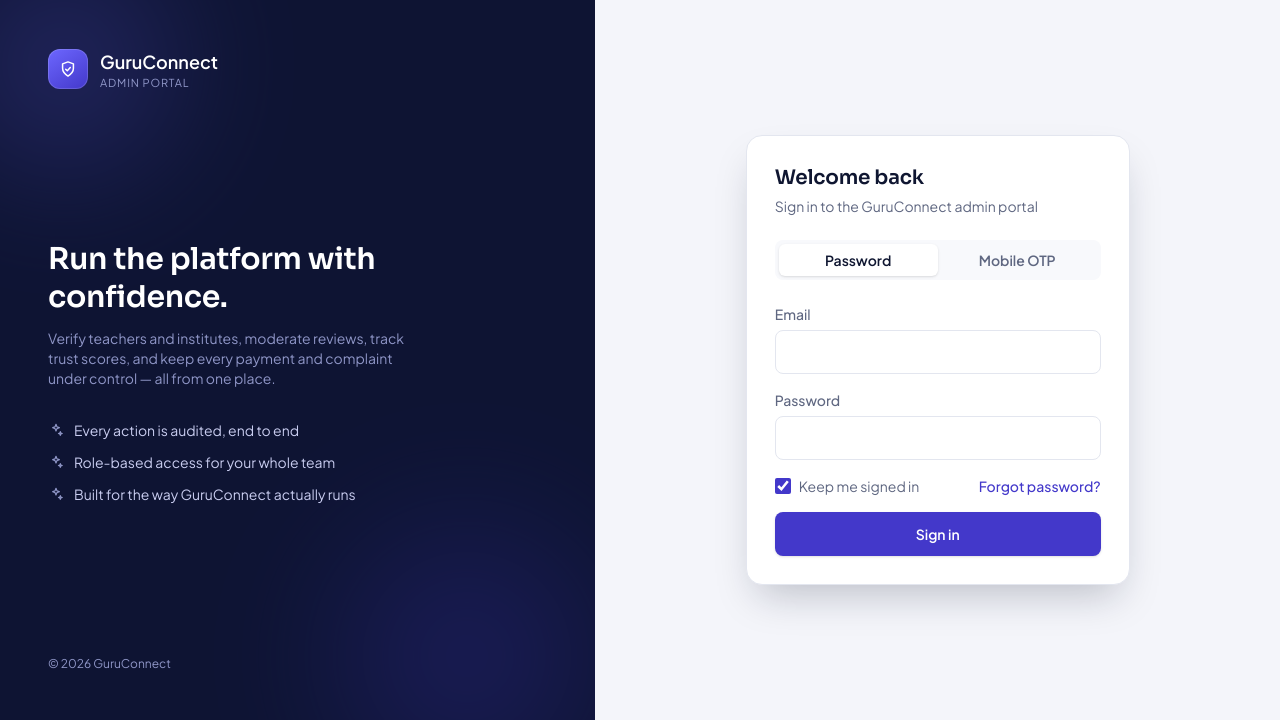
Test: LoginPage › shows the throttle message on RATE_LIMITED
The image size is (1280, 720).
Type "a@b.co" into the field labelled "Email" at (938, 352), box [775, 330, 1101, 374]
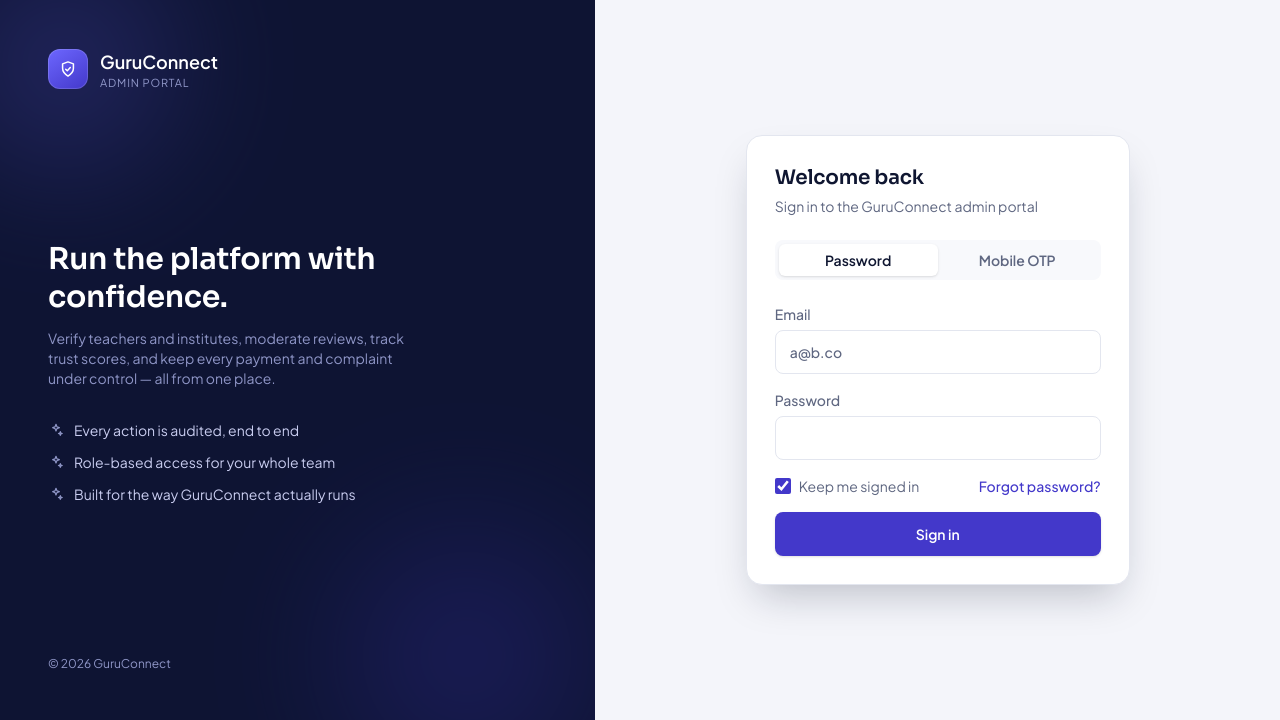
Type "wrong-password" into the password field labelled "Password" at (938, 438), box [775, 416, 1101, 460]
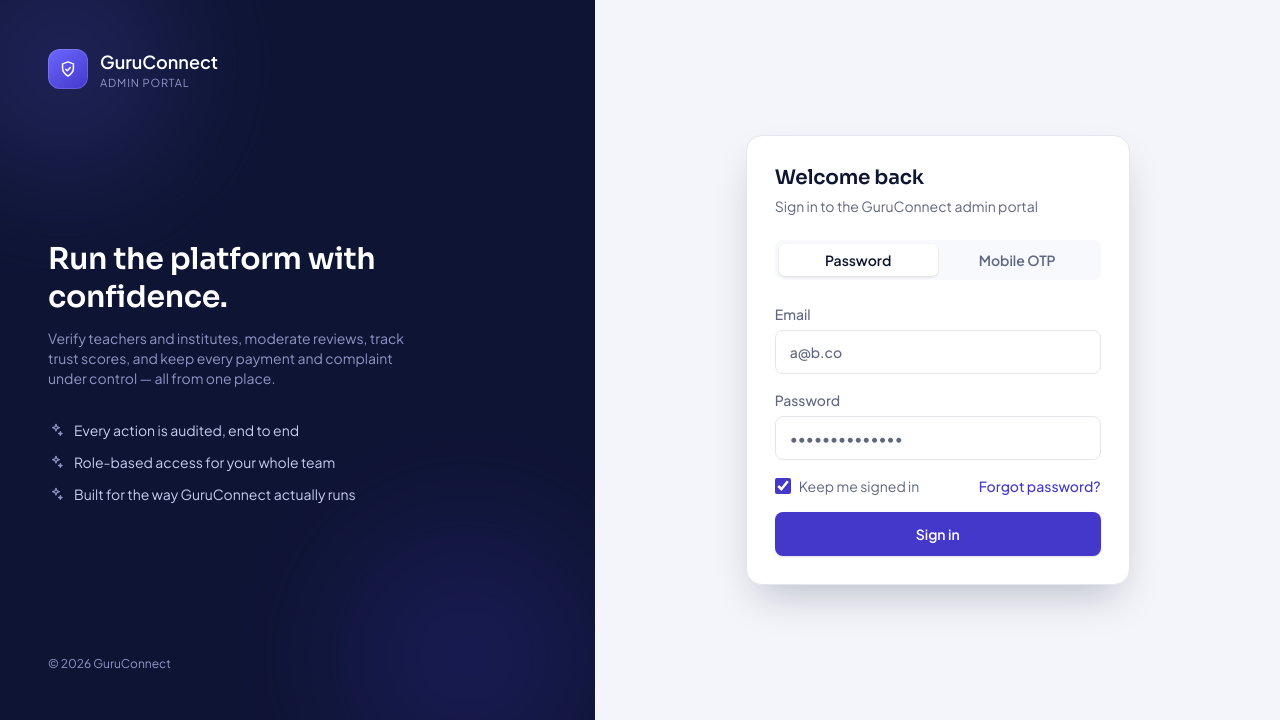
Click the button "Sign in" at (938, 534), box [775, 512, 1101, 556]
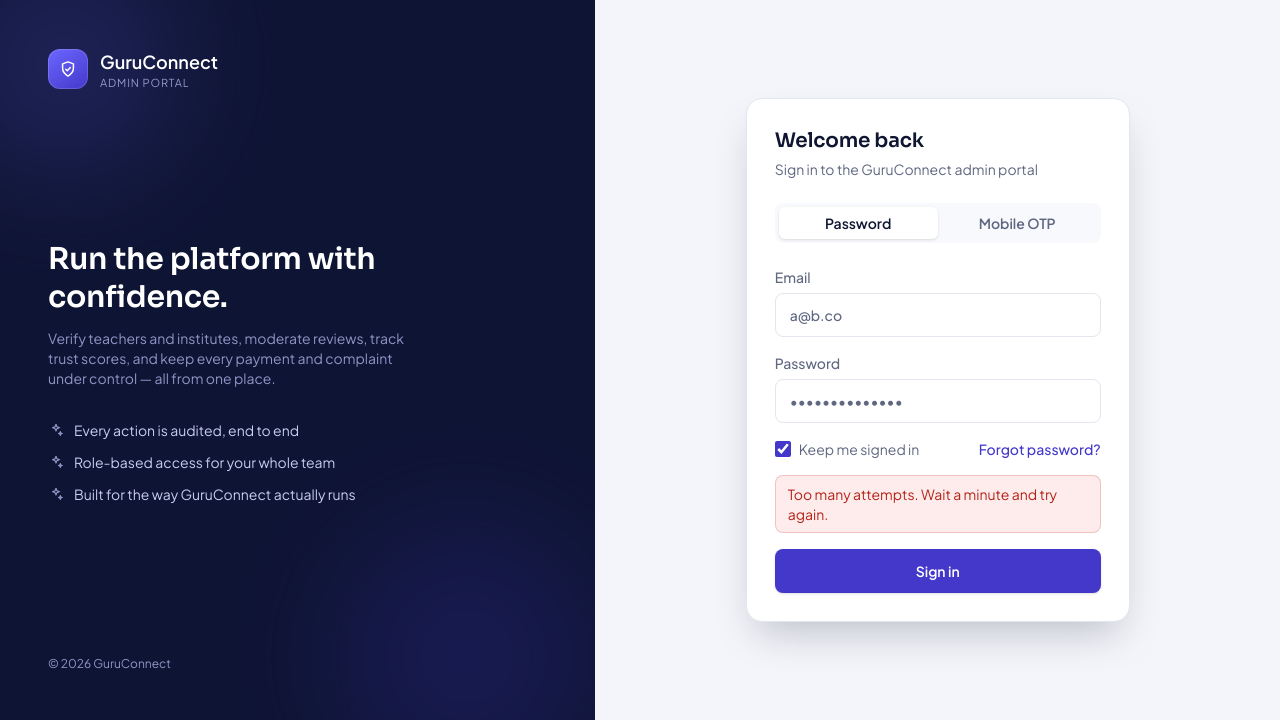
Check: the text "Too many attempts. Wait a minute and try again." is shown, box [775, 475, 1101, 533]
